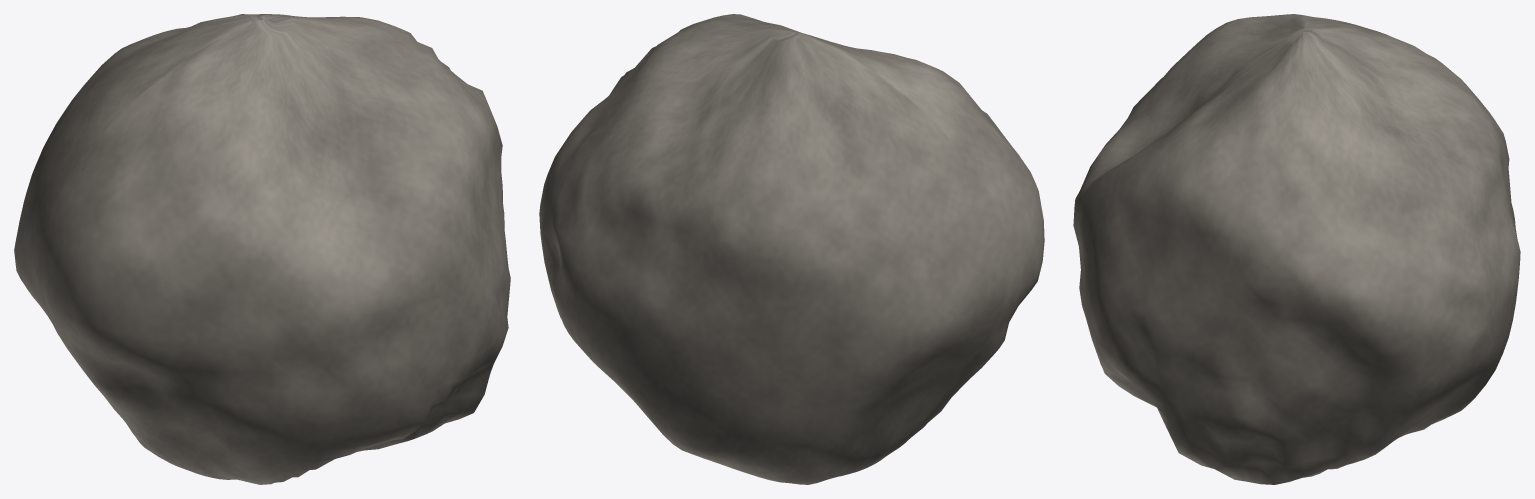
The picture shows the model from 3 angles, left to right: view 1: azimuth 30°, elevation 25°; view 2: azimuth 150°, elevation 25°; view 3: azimuth 270°, elevation 25°; orthographic projection. The views are drawn at different scales.
Visible parts, largest first — view 1: Proteus; view 2: Proteus; view 3: Proteus.
Boxes of the visible parts, x1,y1,x2,y2 form: Proteus: (14, 14, 510, 484); Proteus: (539, 14, 1044, 484); Proteus: (1073, 14, 1520, 484).
Size of the model in its own units: 437 by 411 by 398.
Materials: 1 (1 with a texture image).
